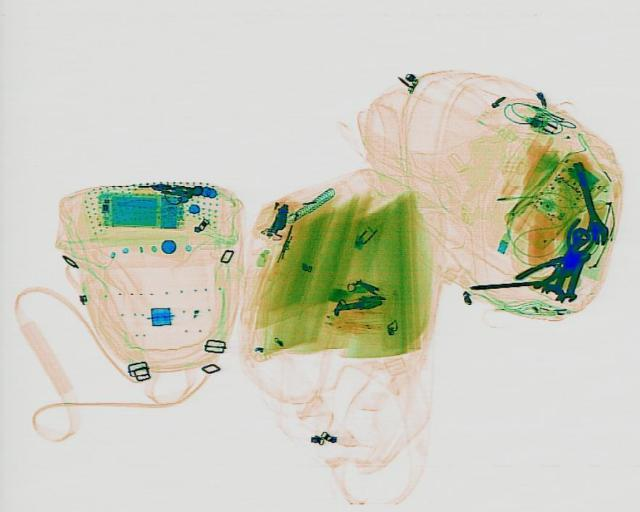Pliers: (514, 244, 582, 290), (549, 216, 599, 264)
Wrench: (566, 160, 610, 245), (554, 248, 592, 302)
